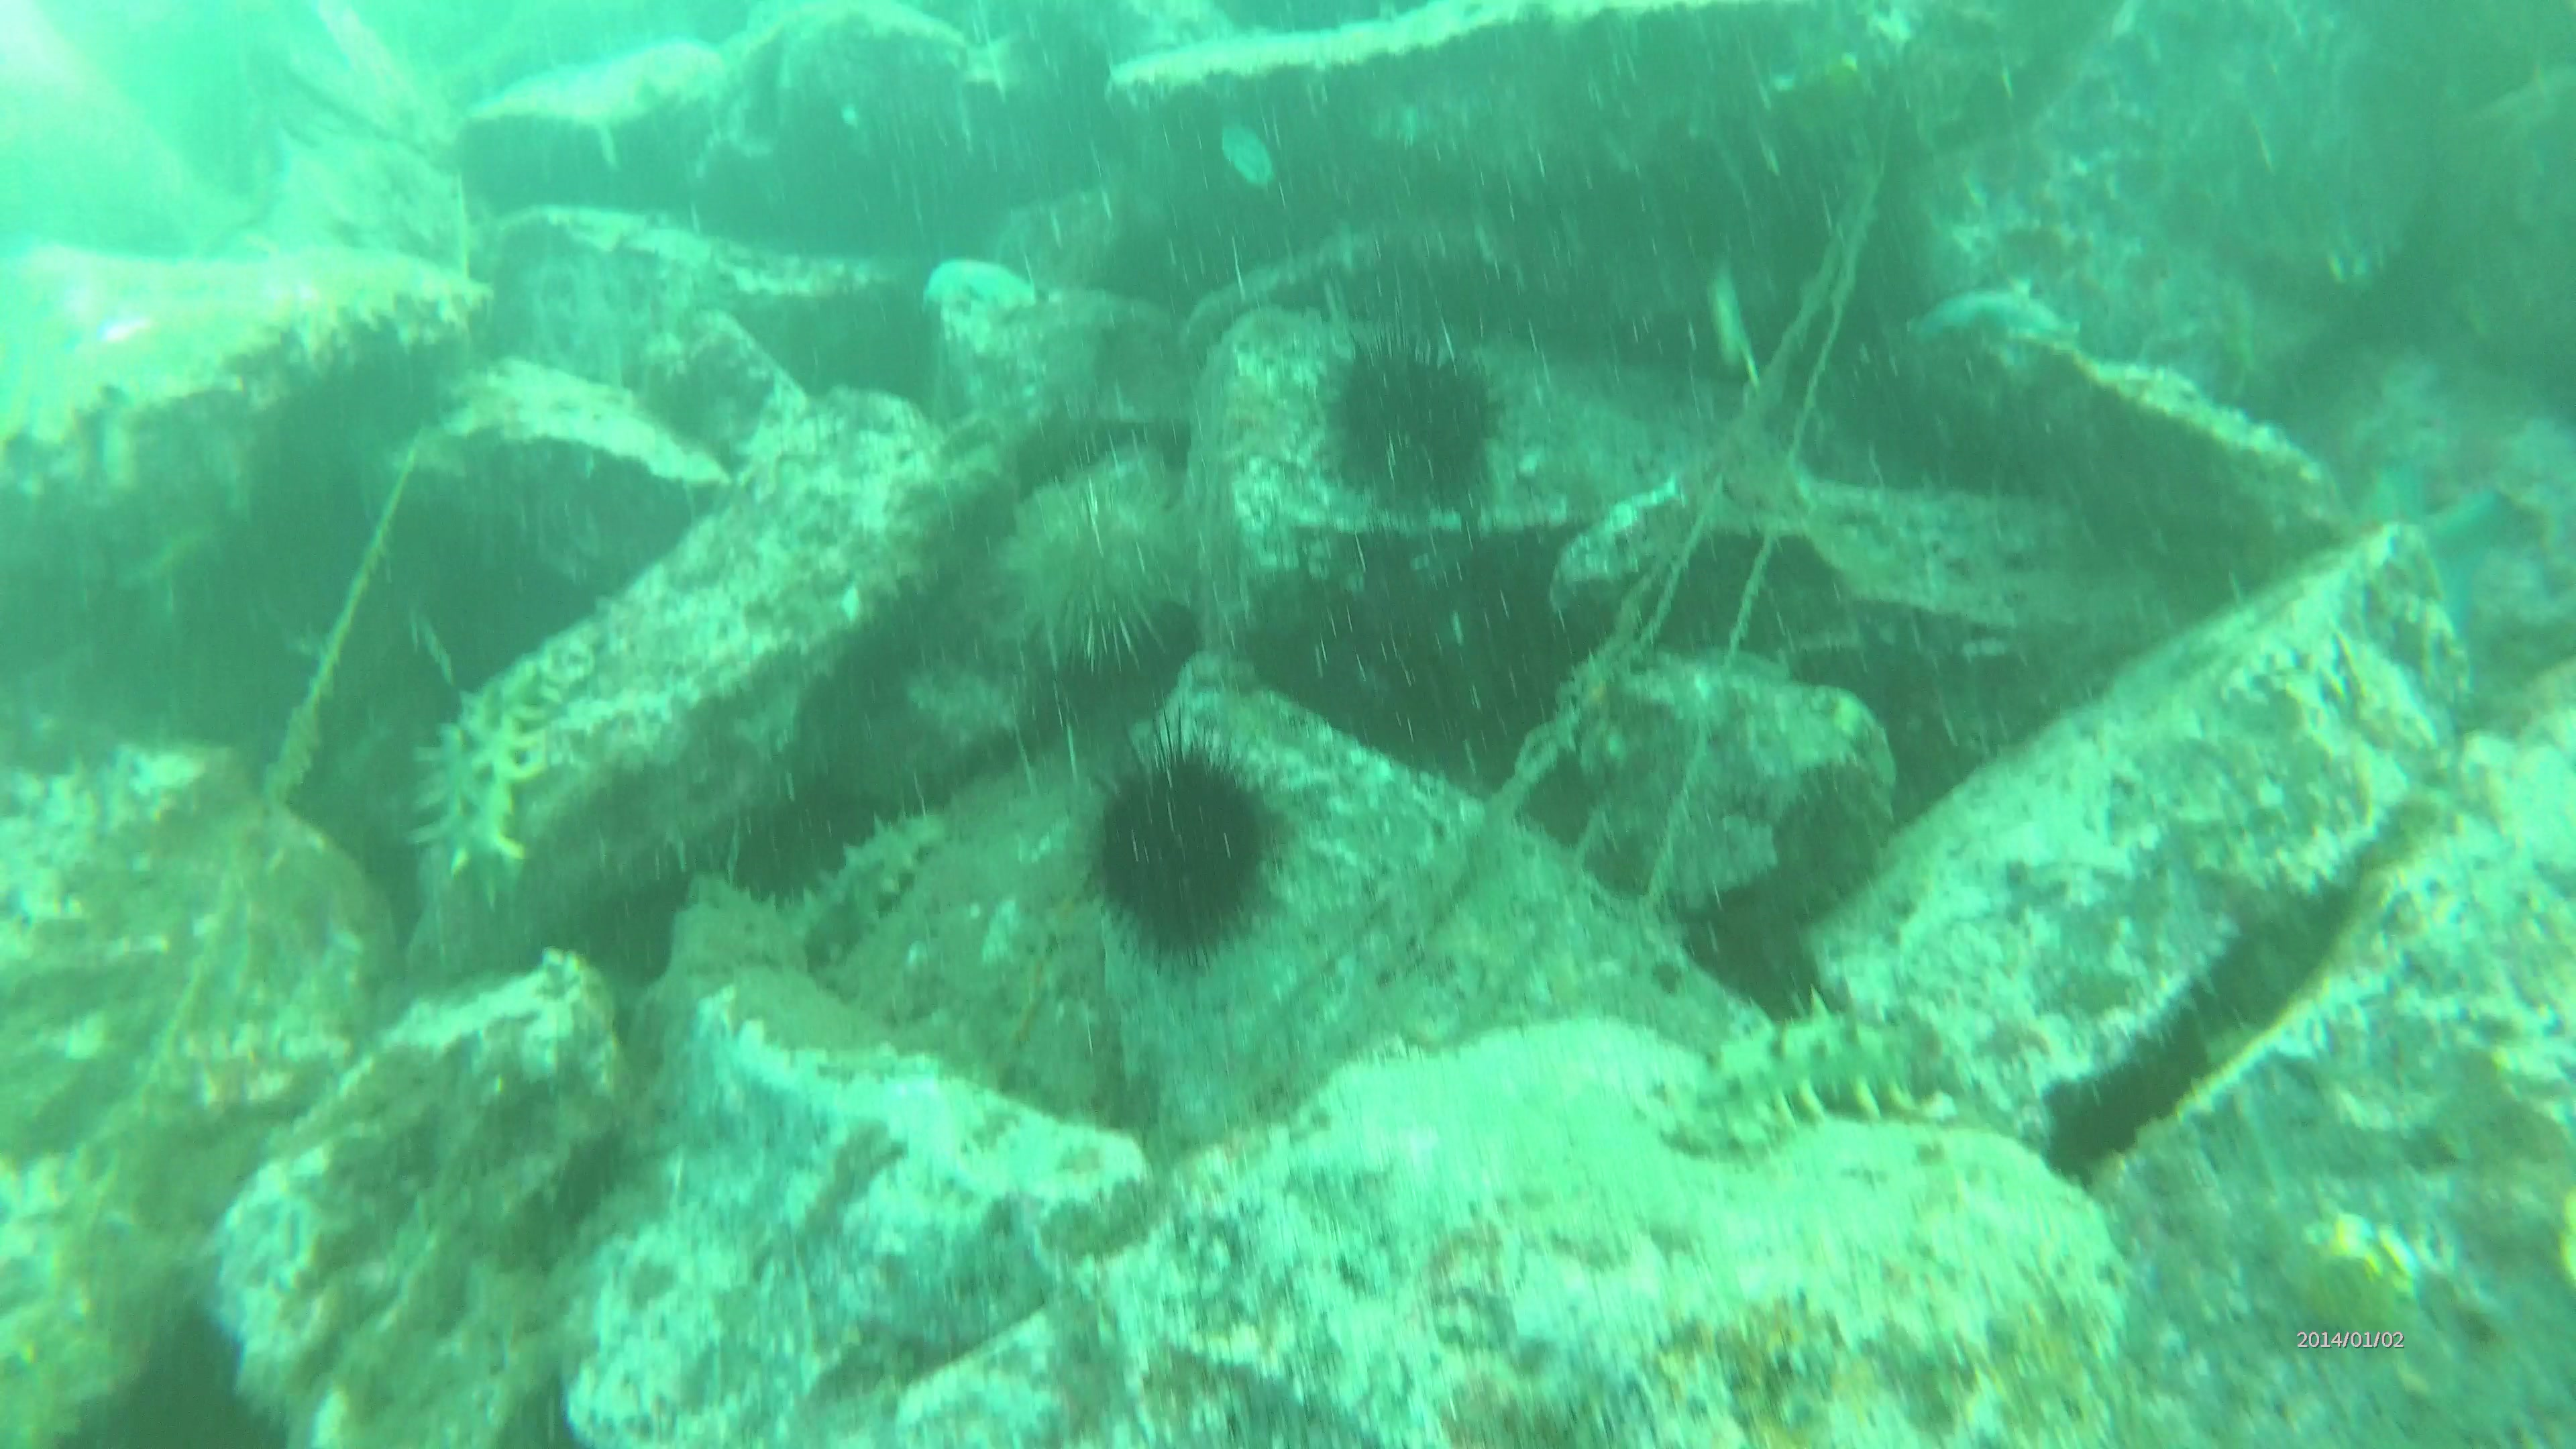echinus: (1062, 717, 1318, 978), (1295, 322, 1546, 529), (1008, 469, 1201, 683)
holothurian: (1647, 989, 1964, 1162), (407, 619, 598, 885), (784, 801, 962, 970)
